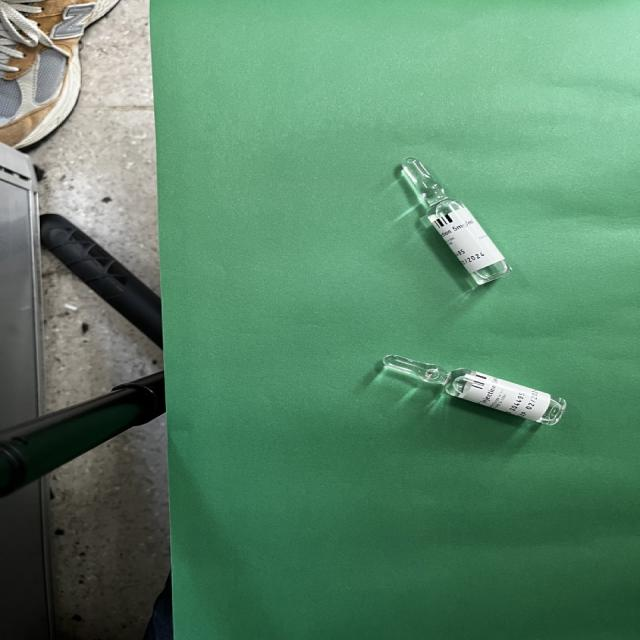Ampoules: (401, 158, 511, 285), (383, 355, 566, 425)
